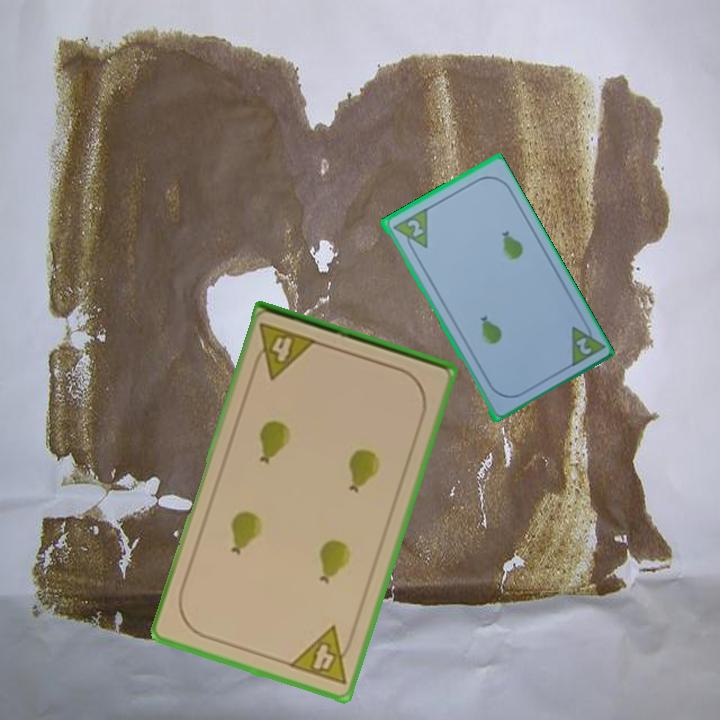2p: (403, 215, 426, 240), (572, 333, 594, 357)
4p: (285, 622, 358, 688), (248, 319, 320, 382)
